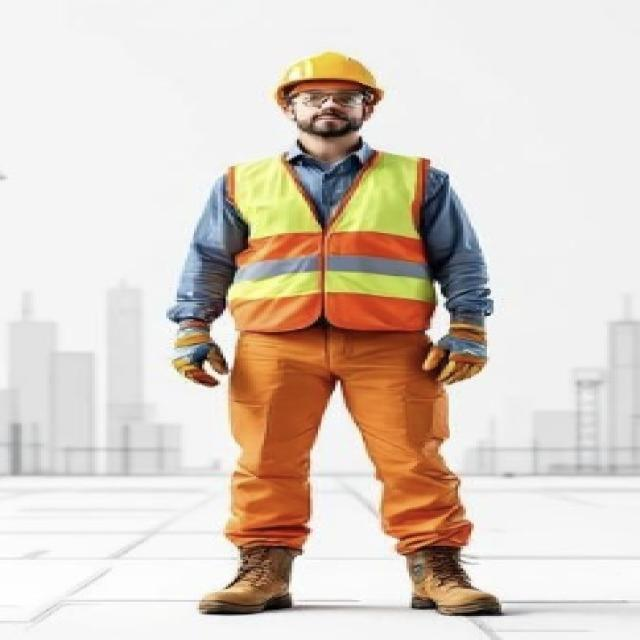boots: (376, 519, 528, 632), (192, 517, 336, 625)
gloves: (163, 299, 235, 392), (437, 312, 514, 394)
goggles: (284, 92, 379, 114)
helmet: (256, 41, 418, 94)
person: (125, 9, 555, 640)
vest: (220, 155, 442, 340)
